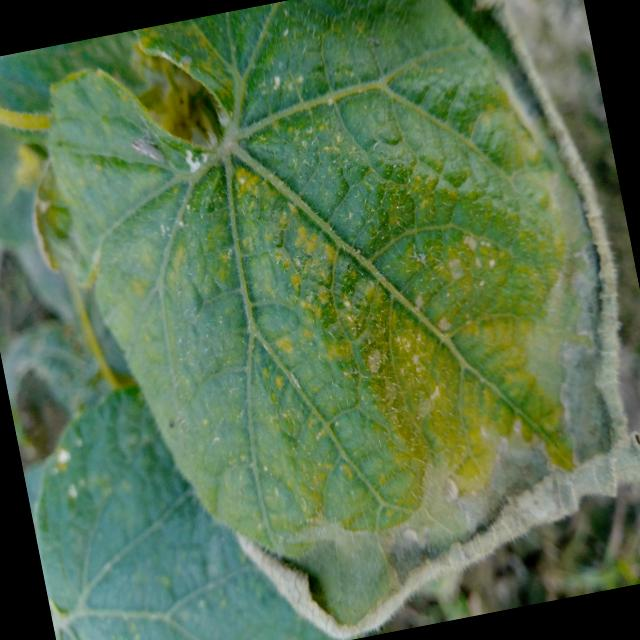cucumber_gummy: (21, 0, 640, 640)
